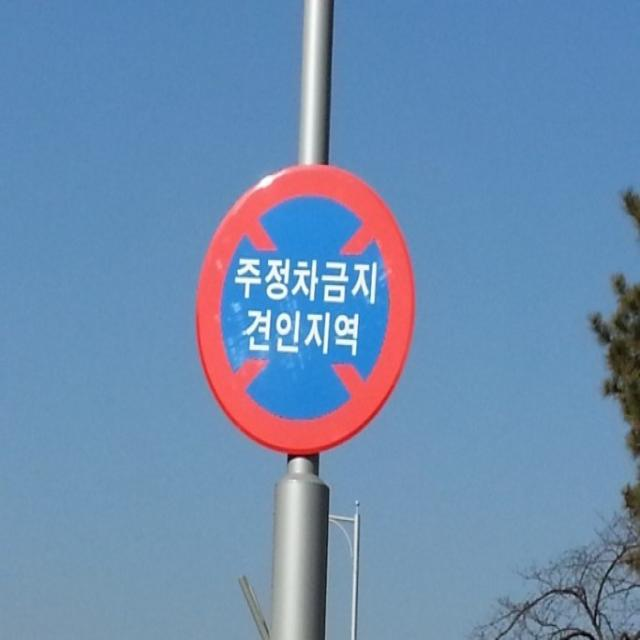regulatory_No_stop_or_parking: (190, 145, 426, 462)
